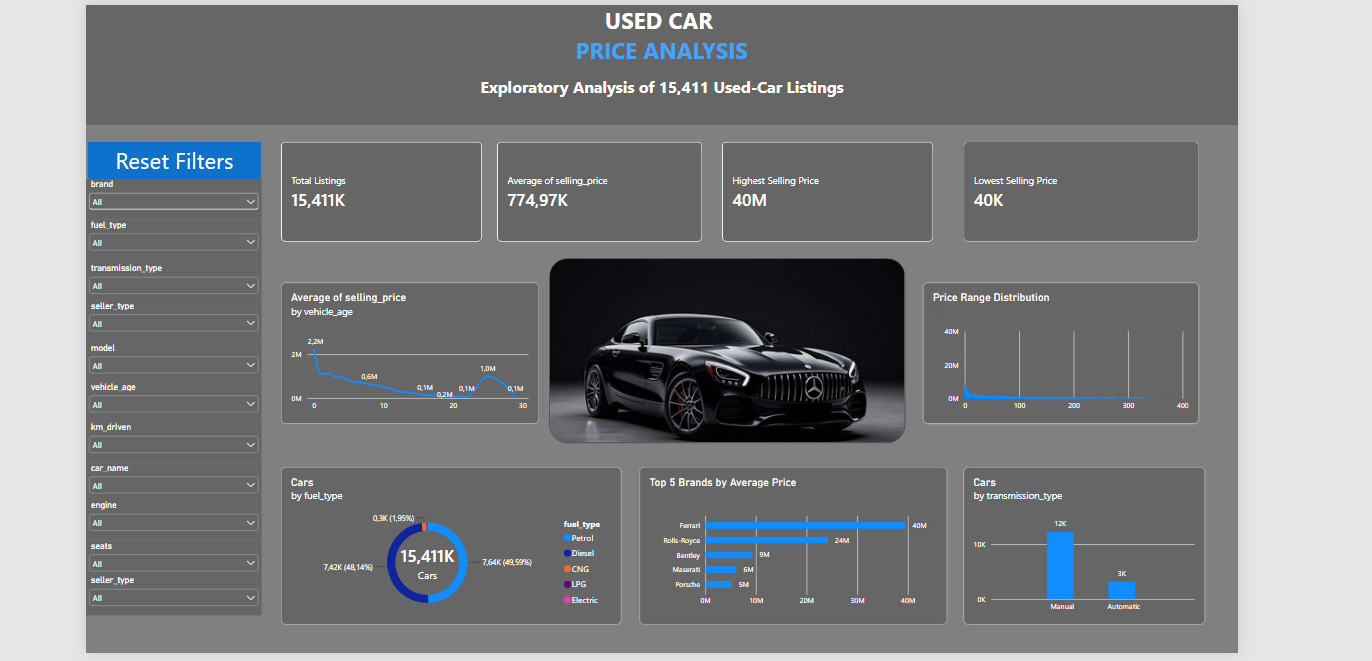

Layout of this report page (visuals, bound fields, positions):
{"tool":"powerbi","page":{"name":"Page 1","canvas":[1920,1080],"ordinal":0},"visuals":[{"type":"cardVisual","fields":{"Data":["CountNonNull(car_price_dataset.car_name)"]},"box":[325,227.5,335,167.5],"z":0},{"type":"cardVisual","fields":{"Data":["Avg(car_price_dataset.selling_price)"]},"box":[685,227.5,342.5,167.5],"z":1000},{"type":"cardVisual","fields":{"Data":["Max(car_price_dataset.selling_price)"]},"box":[1060,227.5,352.5,167.5],"z":2000},{"type":"cardVisual","fields":{"Data":["Min(car_price_dataset.selling_price)"]},"box":[1462.5,227.5,392.5,167.5],"z":3000},{"type":"slicer","fields":{"Values":["car_price_dataset.brand"]},"box":[0,290,292.5,67.5],"z":4000},{"type":"slicer","fields":{"Values":["car_price_dataset.fuel_type"]},"box":[0,357.5,292.5,72.5],"z":5000},{"type":"slicer","fields":{"Values":["car_price_dataset.transmission_type"]},"box":[0,430,292.5,62.5],"z":6000},{"type":"slicer","fields":{"Values":["car_price_dataset.seller_type"]},"box":[0,492.5,292.5,70],"z":7000},{"type":"slicer","fields":{"Values":["car_price_dataset.model"]},"box":[0,562.5,292.5,65],"z":8000},{"type":"slicer","fields":{"Values":["car_price_dataset.vehicle_age"]},"box":[0,627.5,292.5,67.5],"z":9000},{"type":"slicer","fields":{"Values":["car_price_dataset.km_driven"]},"box":[0,695,292.5,67.5],"z":10000},{"type":"slicer","fields":{"Values":["car_price_dataset.car_name"]},"box":[0,762.5,292.5,62.5],"z":11000},{"type":"slicer","fields":{"Values":["car_price_dataset.engine"]},"box":[0,825,292.5,67.5],"z":12000},{"type":"slicer","fields":{"Values":["car_price_dataset.seats"]},"box":[0,892.5,292.5,57.5],"z":13000},{"type":"slicer","fields":{"Values":["car_price_dataset.seller_type"]},"box":[0,950,292.5,67.5],"z":14000},{"type":"lineChart","fields":{"Category":["car_price_dataset.vehicle_age"],"Y":["Avg(car_price_dataset.selling_price)"]},"box":[325,462.5,430,235],"z":15000},{"type":"donutChart","fields":{"Category":["car_price_dataset.fuel_type"],"Y":["CountNonNull(car_price_dataset.car_name)"]},"box":[325,770,567.5,262.5],"z":16000},{"type":"barChart","title":"Price Range Distribution","fields":{"Category":["car_price_dataset.selling_price (bins)"],"Y":["CountNonNull(car_price_dataset.car_name)"]},"box":[1395,462.5,460,235],"z":17000},{"type":"clusteredBarChart","title":"Top 5 Brands by Average Price","fields":{"Category":["car_price_dataset.brand"],"Y":["Avg(car_price_dataset.selling_price)"]},"box":[922.5,770,512.5,262.5],"z":18000},{"type":"columnChart","fields":{"Category":["car_price_dataset.transmission_type"],"Y":["CountNonNull(car_price_dataset.car_name)"]},"box":[1462.5,770,402.5,262.5],"z":19000},{"type":"actionButton","box":[2.5,227.5,290,62.5],"z":20000},{"type":"image","box":[772.5,422.5,592.5,307.5],"z":21000},{"type":"textbox","box":[0,0,1920,200],"z":22000}]}

Visuals, with their boxes in screenshot pixels (x1, y1, x2, y2):
cardVisual - CountNonNull(car_price_dataset.car_name): l=278, t=137, r=481, b=238
cardVisual - Avg(car_price_dataset.selling_price): l=496, t=137, r=702, b=238
cardVisual - Max(car_price_dataset.selling_price): l=722, t=137, r=935, b=238
cardVisual - Min(car_price_dataset.selling_price): l=965, t=137, r=1202, b=238
slicer - car_price_dataset.brand: l=82, t=175, r=259, b=216
slicer - car_price_dataset.fuel_type: l=82, t=216, r=259, b=260
slicer - car_price_dataset.transmission_type: l=82, t=260, r=259, b=297
slicer - car_price_dataset.seller_type: l=82, t=297, r=259, b=340
slicer - car_price_dataset.model: l=82, t=340, r=259, b=379
slicer - car_price_dataset.vehicle_age: l=82, t=379, r=259, b=419
slicer - car_price_dataset.km_driven: l=82, t=419, r=259, b=460
slicer - car_price_dataset.car_name: l=82, t=460, r=259, b=498
slicer - car_price_dataset.engine: l=82, t=498, r=259, b=539
slicer - car_price_dataset.seats: l=82, t=539, r=259, b=573
slicer - car_price_dataset.seller_type: l=82, t=573, r=259, b=614
lineChart - car_price_dataset.vehicle_age x Avg(car_price_dataset.selling_price): l=278, t=279, r=538, b=421
donutChart - car_price_dataset.fuel_type x CountNonNull(car_price_dataset.car_name): l=278, t=465, r=621, b=623
"Price Range Distribution" barChart: l=924, t=279, r=1202, b=421
"Top 5 Brands by Average Price" clusteredBarChart: l=639, t=465, r=948, b=623
columnChart - car_price_dataset.transmission_type x CountNonNull(car_price_dataset.car_name): l=965, t=465, r=1208, b=623
actionButton: l=84, t=137, r=259, b=175
image: l=548, t=255, r=906, b=441
textbox: l=82, t=0, r=1241, b=121
